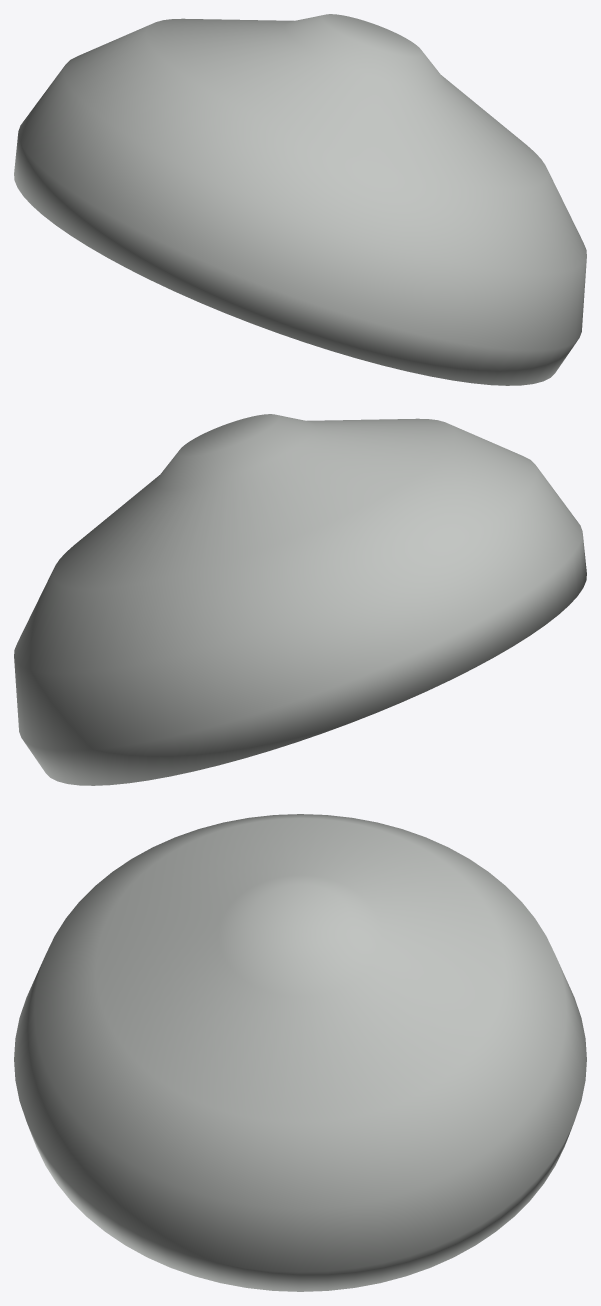
Rendered from bell.glb.
3 views of the same model, one above another, from view 1: azimuth 30°, elevation 25°; view 2: azimuth 150°, elevation 25°; view 3: azimuth 270°, elevation 25° (orthographic). The views are drawn at different scales.
Parts seen in each view (by area): view 1: bell; view 2: bell; view 3: bell.
Part boxes in pixels (<box>): bell: <box>14,14,586,385</box>; bell: <box>14,414,586,785</box>; bell: <box>14,814,586,1291</box>.
Size of the model in its own units: 0.2655 by 0.1728 by 0.28.
1 material, 1 textured.
